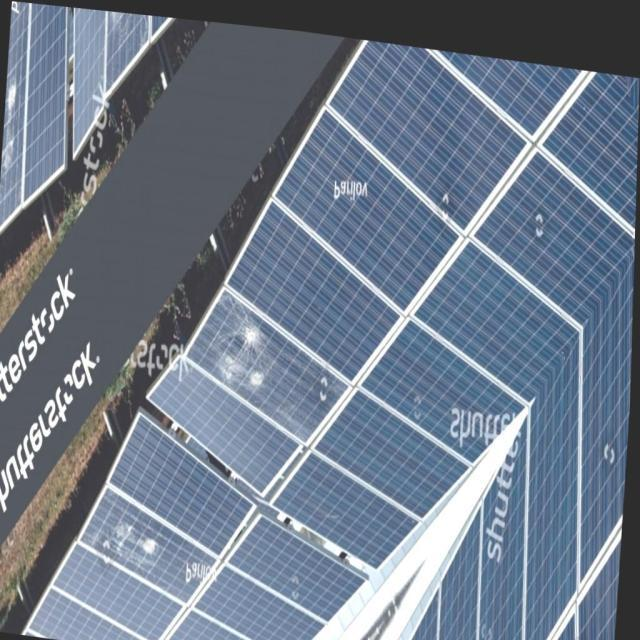cracked: (184, 287, 348, 432), (82, 491, 200, 585), (1, 5, 23, 228), (100, 9, 152, 89)
